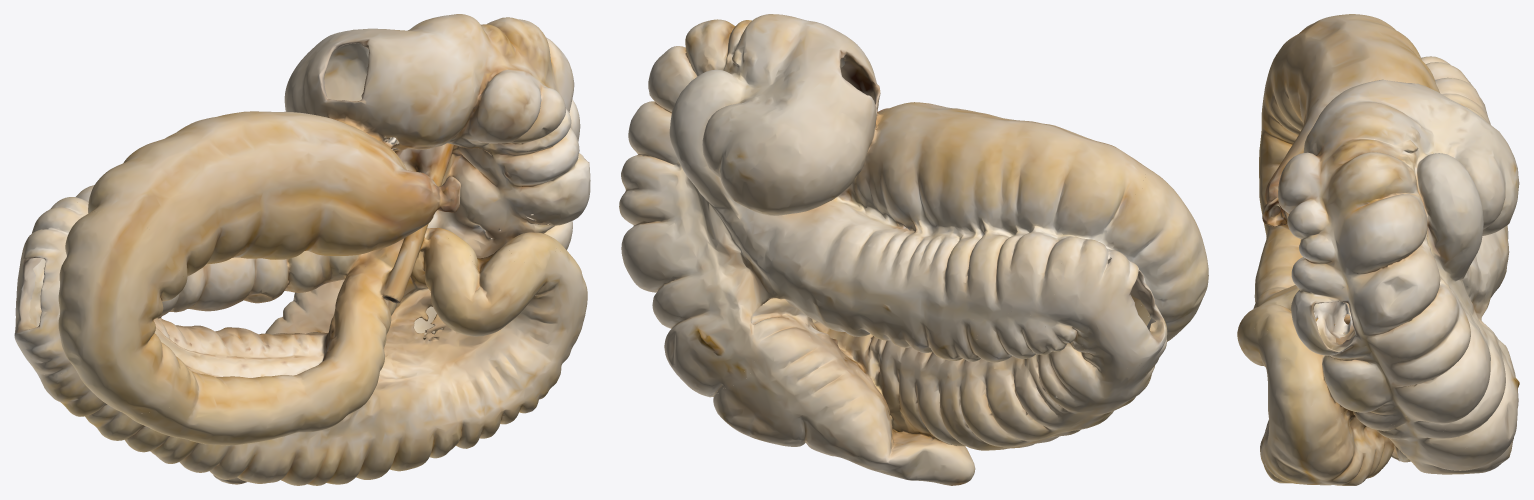
Rendered from horse-colon.glb.
3 renders of one model, left to right at view 1: azimuth 30°, elevation 25°; view 2: azimuth 150°, elevation 25°; view 3: azimuth 270°, elevation 25°, orthographic. The views are drawn at different scales.
Parts seen in each view (by area): view 1: Object_2; view 2: Object_2; view 3: Object_2.
Part boxes in pixels (box(x1,y1,x2,y2)): Object_2: box(14, 14, 590, 485); Object_2: box(619, 14, 1208, 485); Object_2: box(1237, 14, 1519, 485).
Bounding box in the file's own units: 5.31 × 3.87 × 2.39.
